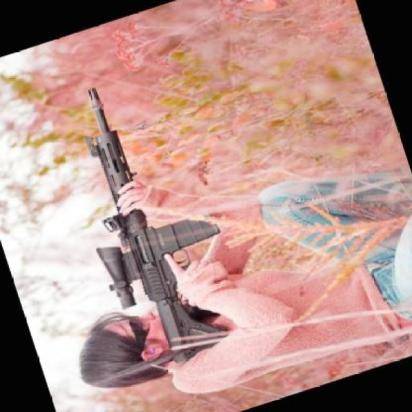Gun: (81, 86, 225, 362)
